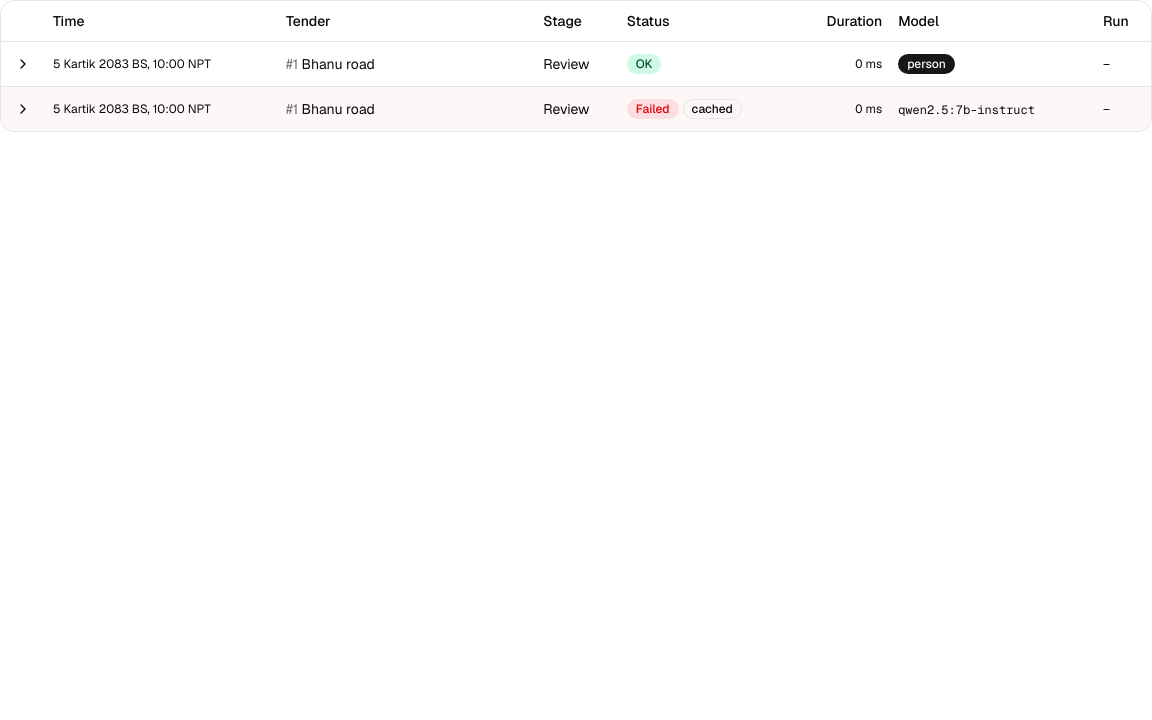
Test: AgentRunsTable › expands a row to its input hash and output JSON
Expected: the icon "person" is shown, [898,54,955,74]
Expected: the icon "Failed" is shown, [627,98,679,118]
Click the button named "Show the input hash and output of row 12".
click(23, 64)  # box [9,50,37,78]
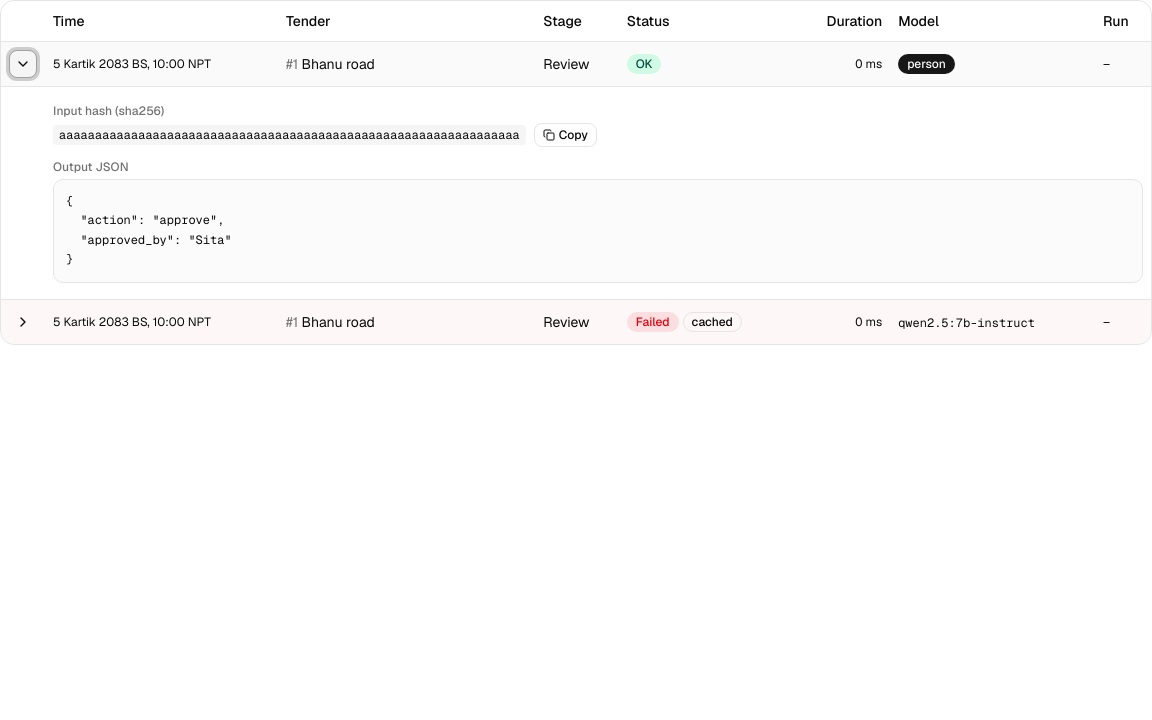
Now the button named "Show the input hash and output of row 12" is expanded, box [9,50,37,78]
Now the text with test id "output-json" shows "\"action\": \"approve\"", box [66,192,232,267]
Click the button named "row 11".
click(23, 322)  # box [9,308,37,336]
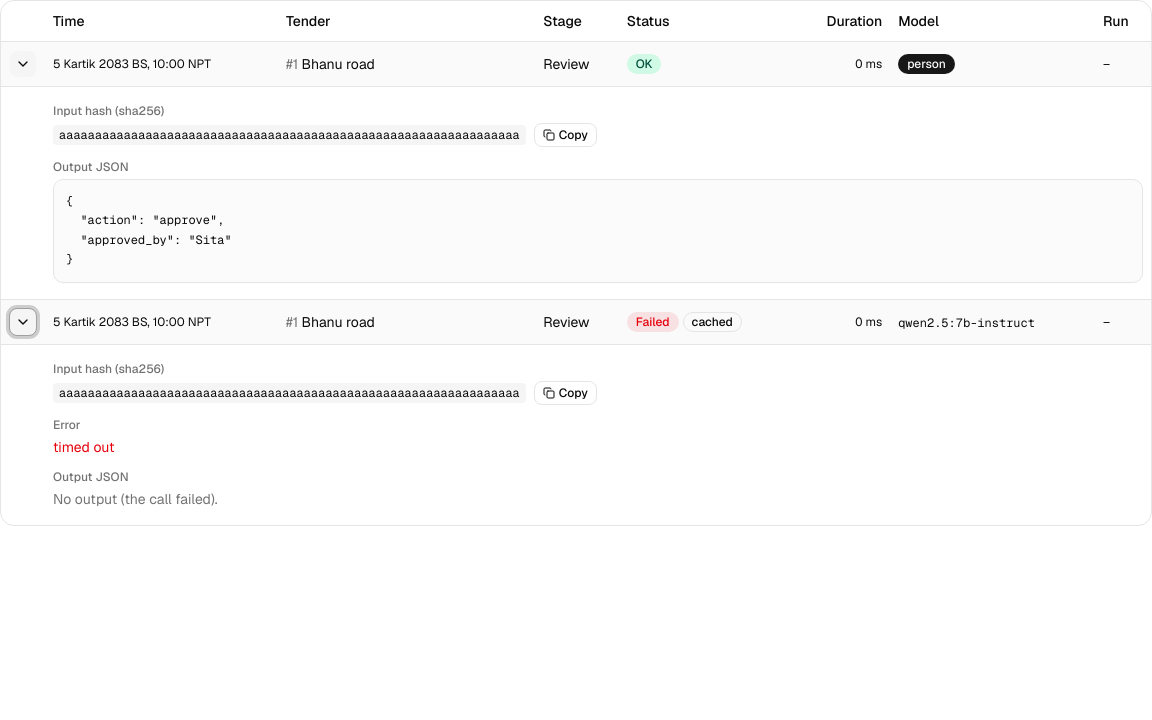
Now the text "No output (the call failed)." is shown, box [53,490,218,508]
Now the text "timed out" is shown, box [53,438,114,456]
